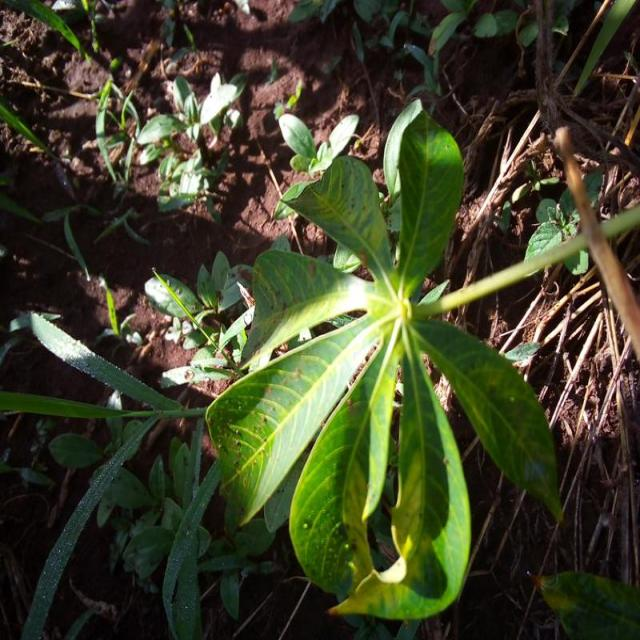cassava leaf: (203, 97, 565, 622)
